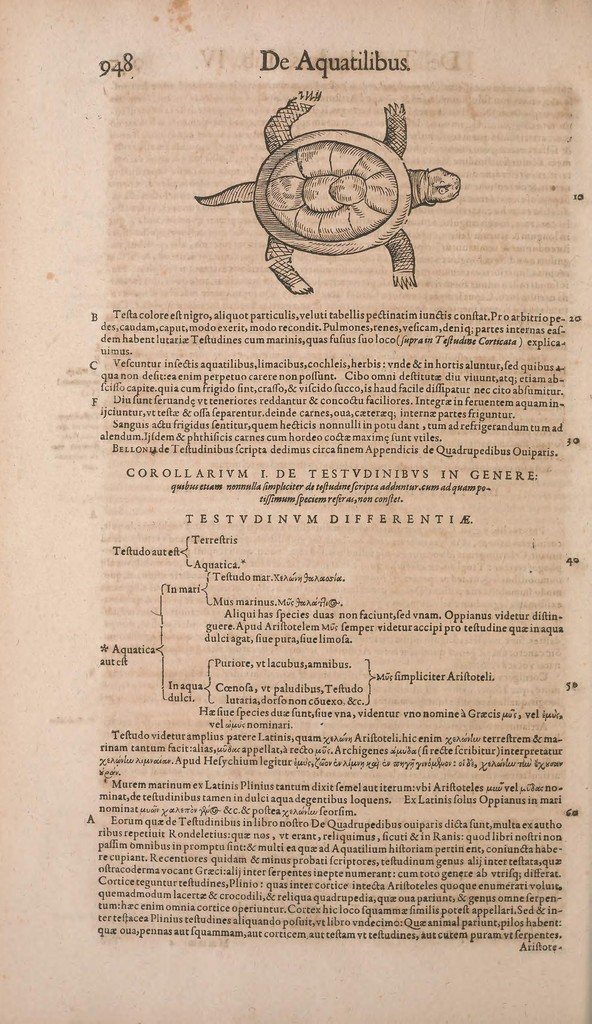Sea turtles: (195, 89, 463, 297)
